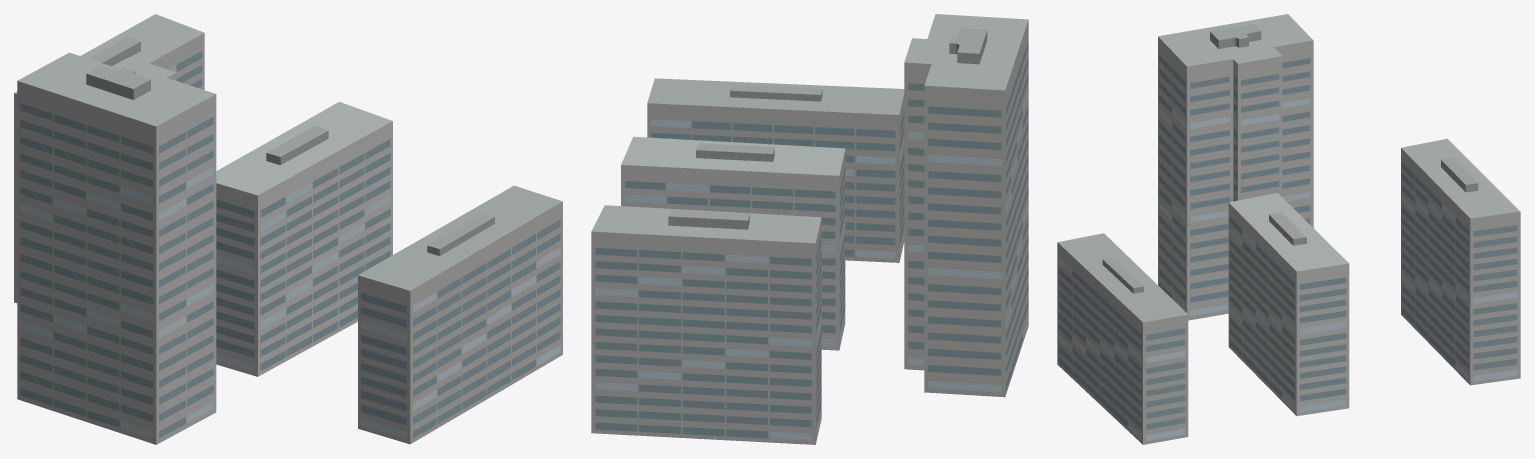
Rendered from apt-a13509101.glb.
3 views of the same model, side by side, from view 1: azimuth 30°, elevation 25°; view 2: azimuth 150°, elevation 25°; view 3: azimuth 270°, elevation 25° (orthographic). The views are drawn at different scales.
Parts seen in each view (by area): view 1: apt-a13509101; view 2: apt-a13509101; view 3: apt-a13509101.
Boxes of the visible parts, x1,y1,x2,y2 form: apt-a13509101: (14, 14, 562, 444); apt-a13509101: (591, 14, 1028, 444); apt-a13509101: (1057, 14, 1520, 444).
Bounding box in the file's own units: 104 × 72 × 115.
